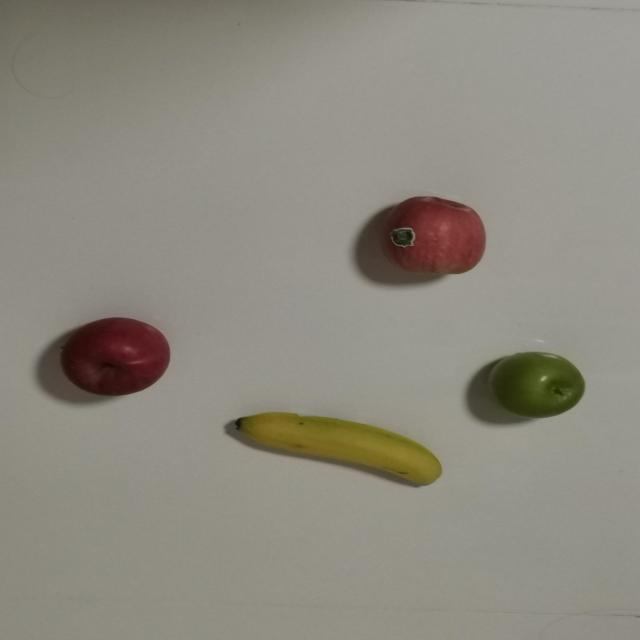Apple: (62, 314, 184, 394), (495, 343, 593, 418), (393, 197, 491, 271)
Banana: (231, 395, 448, 493)
